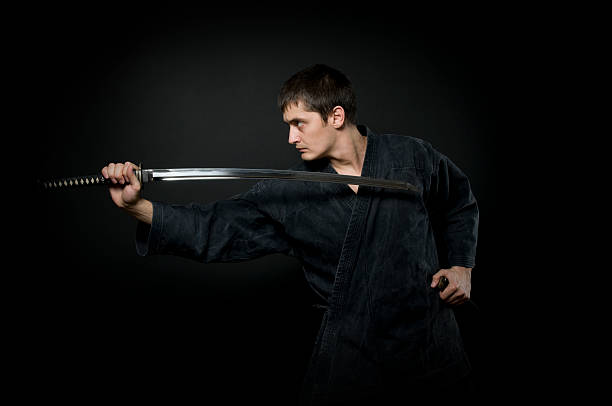knife: (41, 161, 421, 195)
